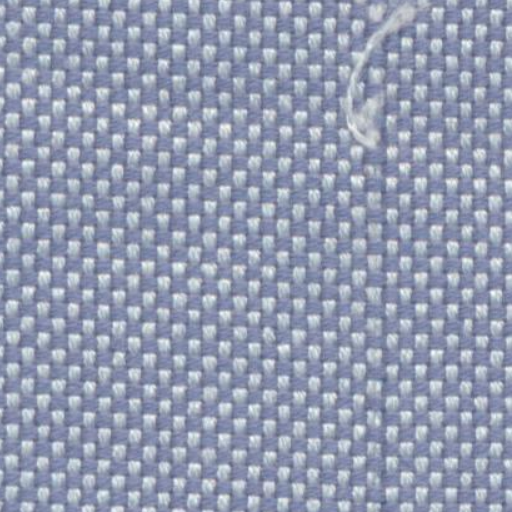DuanSha: (340, 6, 440, 154)
